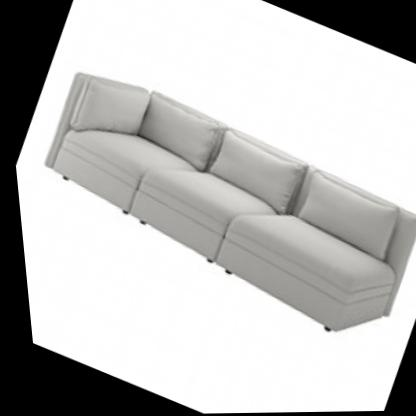Sofa: (2, 24, 416, 371)
